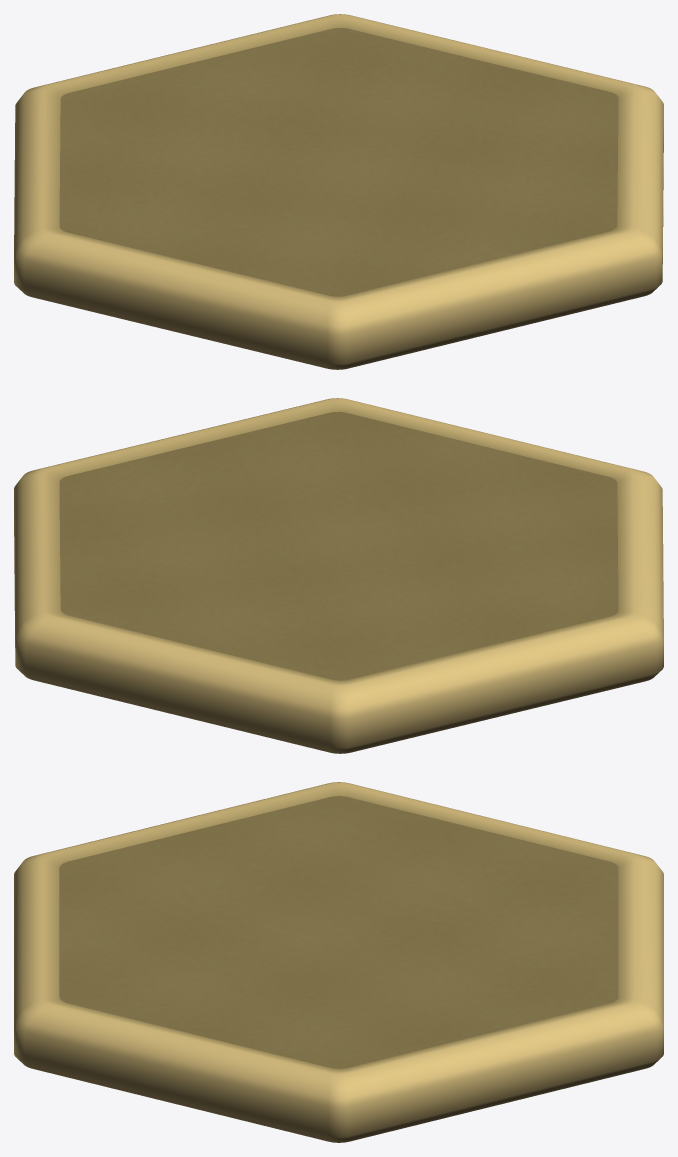
The model's file is HexFloor_Partial.fbx.
3 views of the same model, one above another, from view 1: azimuth 30°, elevation 25°; view 2: azimuth 150°, elevation 25°; view 3: azimuth 270°, elevation 25° (orthographic).
Visible parts, largest first — view 1: HexFloor_Partial; view 2: HexFloor_Partial; view 3: HexFloor_Partial.
Boxes of the visible parts, x1,y1,x2,y2 form: HexFloor_Partial: [14, 14, 663, 369]; HexFloor_Partial: [14, 398, 663, 753]; HexFloor_Partial: [14, 782, 663, 1142].
Size of the model in its own units: 1 by 0.095 by 0.866.
1 material, 1 textured.
